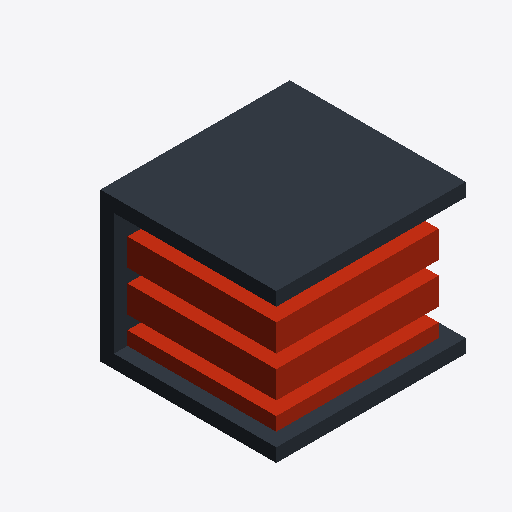
A Minecraft block model of 14 cuboids, rendered isometrically (azimuth 45°, elevation 35.3°) with the resource pack's own textures.
Parts seen in each view (by area): element 2, element 1, element 6, element 9, element 12, element 11, element 8, element 3.
Part boxes in pixels (left/top/right/bottom): element 2: left=100, top=80, right=465, bottom=306; element 1: left=100, top=323, right=465, bottom=462; element 6: left=127, top=315, right=438, bottom=431; element 9: left=127, top=268, right=438, bottom=384; element 12: left=127, top=221, right=438, bottom=337; element 11: left=127, top=244, right=438, bottom=353; element 8: left=127, top=291, right=438, bottom=399; element 3: left=100, top=205, right=140, bottom=352.
Bounding box in the file's own units: 14 × 11 × 17.